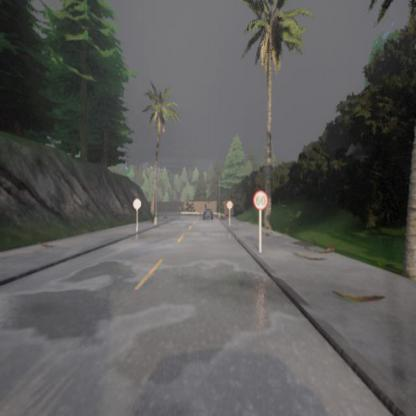traffic_sign_60: (254, 191, 269, 210)
